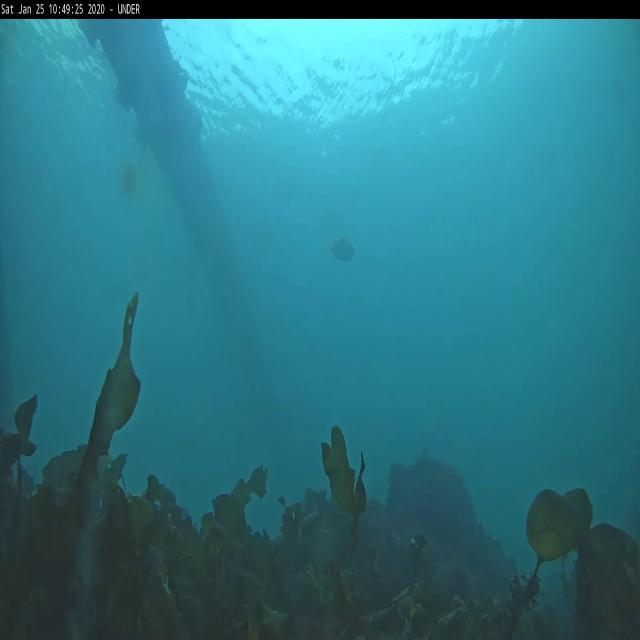fish: (331, 236, 357, 261)
